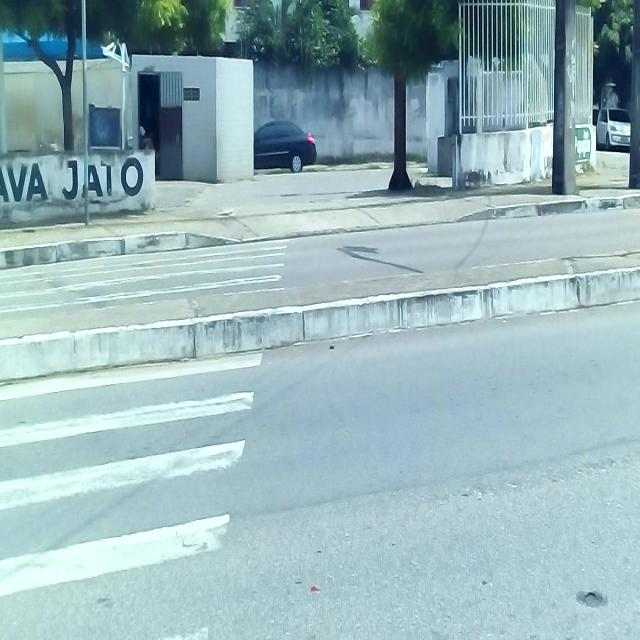crosswalk: (0, 350, 265, 640), (0, 237, 298, 316)
